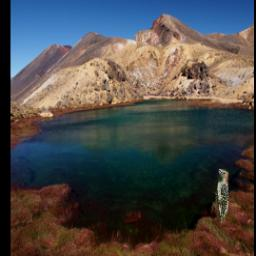Woodpecker: (213, 170, 229, 227)
